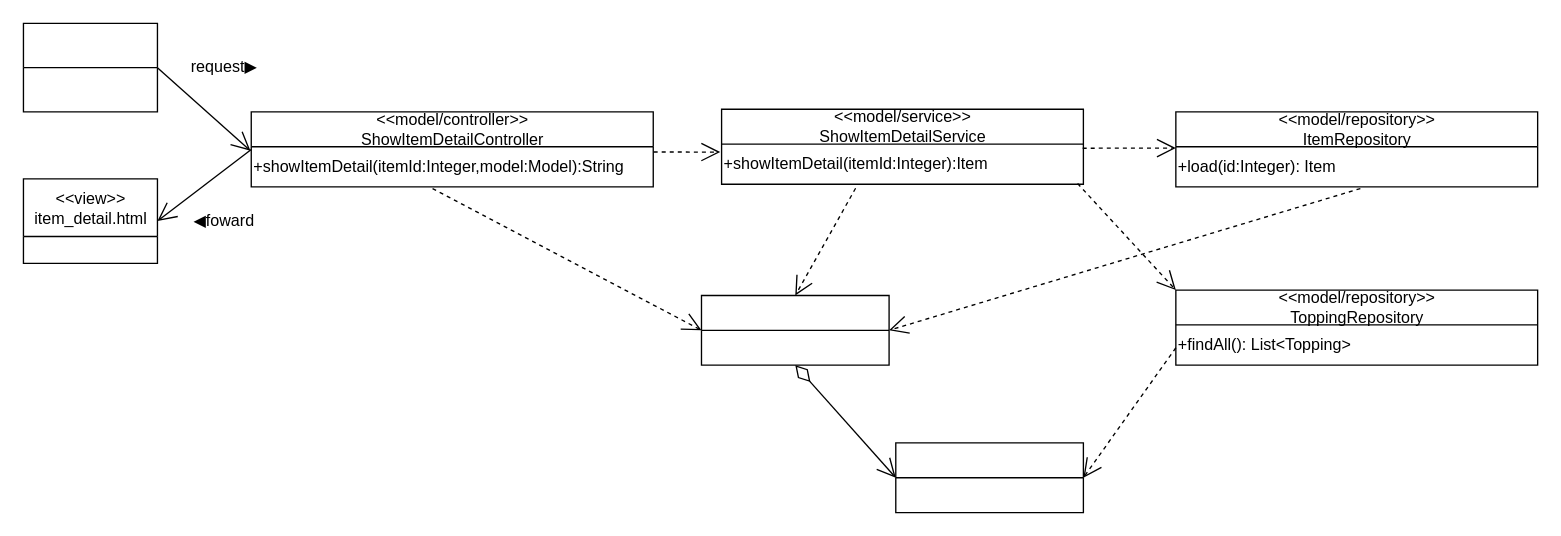
Some shapes in this 1561 by 536 pixel diagram are drawn without their labels. Here are the shapes that lost their labels. From the top down, the centre of each, then its label:
the point at 89,67: <<view>> item_list.html
the point at 794,329: <<model/domain>> Item
the point at 988,477: <<model/domain>> Topping
